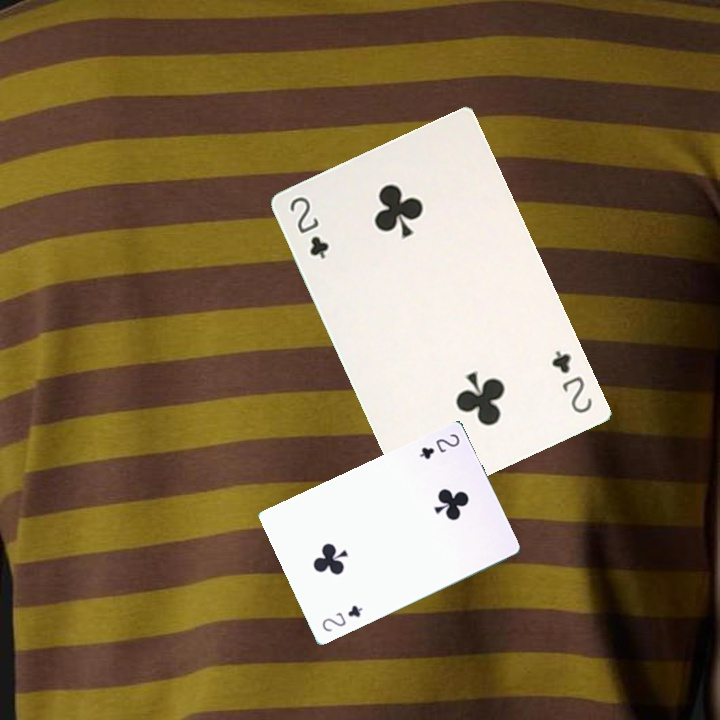2c: (547, 346, 595, 416), (285, 192, 332, 262), (415, 429, 463, 462), (318, 601, 365, 634)
